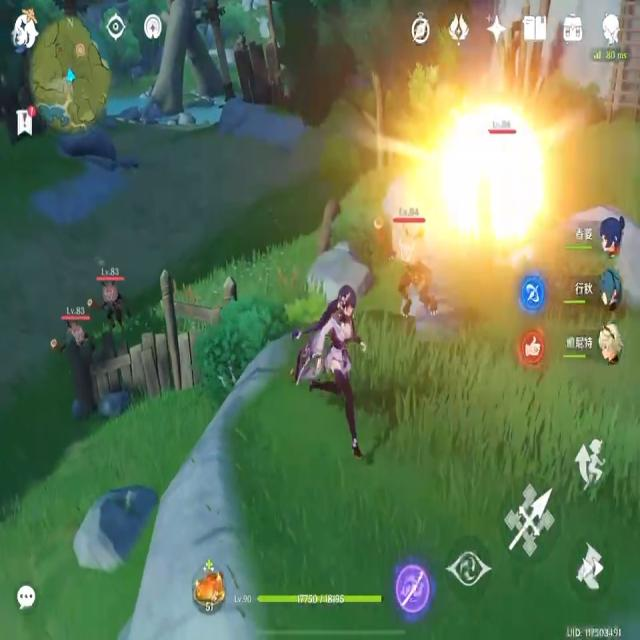genshin-hilichurls: (374, 217, 436, 327), (54, 305, 97, 368), (97, 271, 131, 339)
